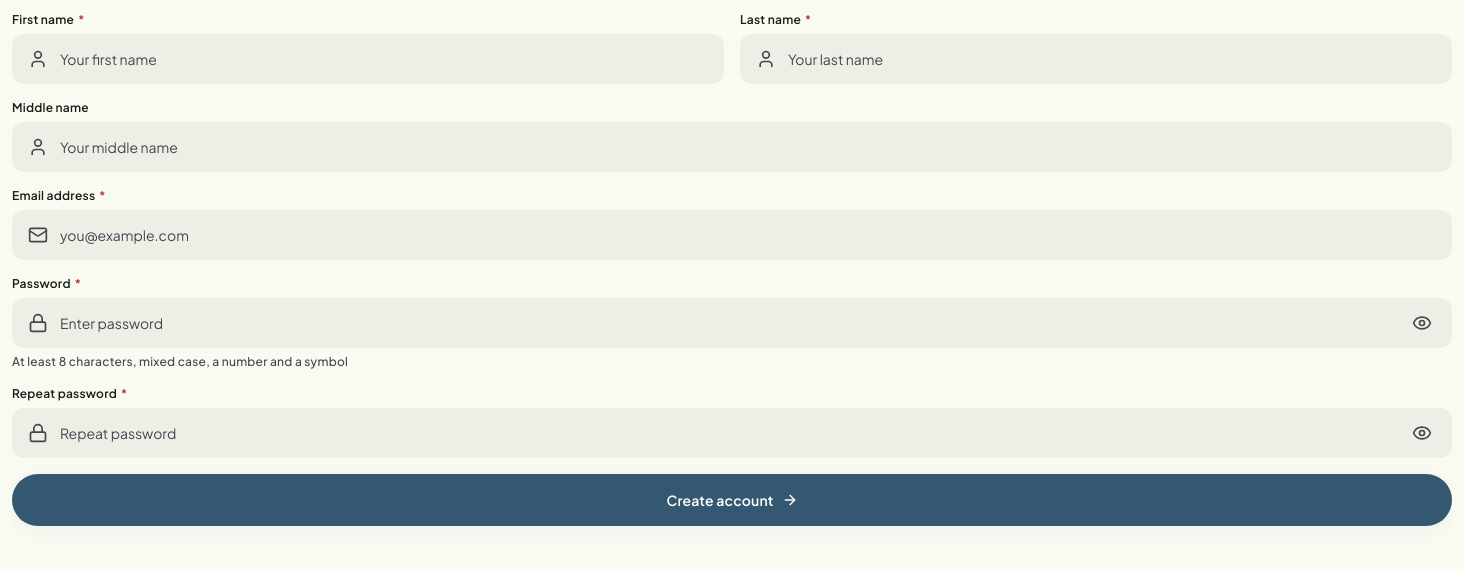
Test: RegisterForm › confirms when the repeated password matches
Type "Chores12!" into the password field labelled "Password".
click(732, 323); type("Chores12!")  # box [12,298,1452,348]
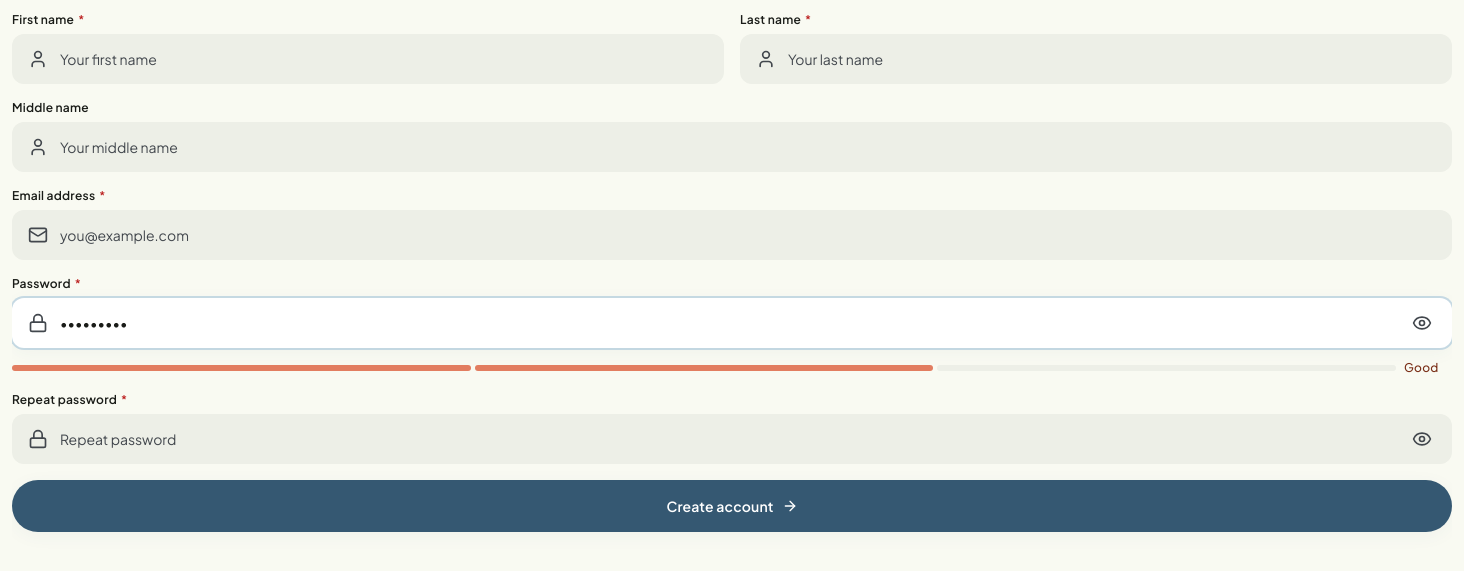
Type "Chores12" into the password field labelled "Repeat password".
click(732, 439); type("Chores12")  # box [12,414,1452,464]
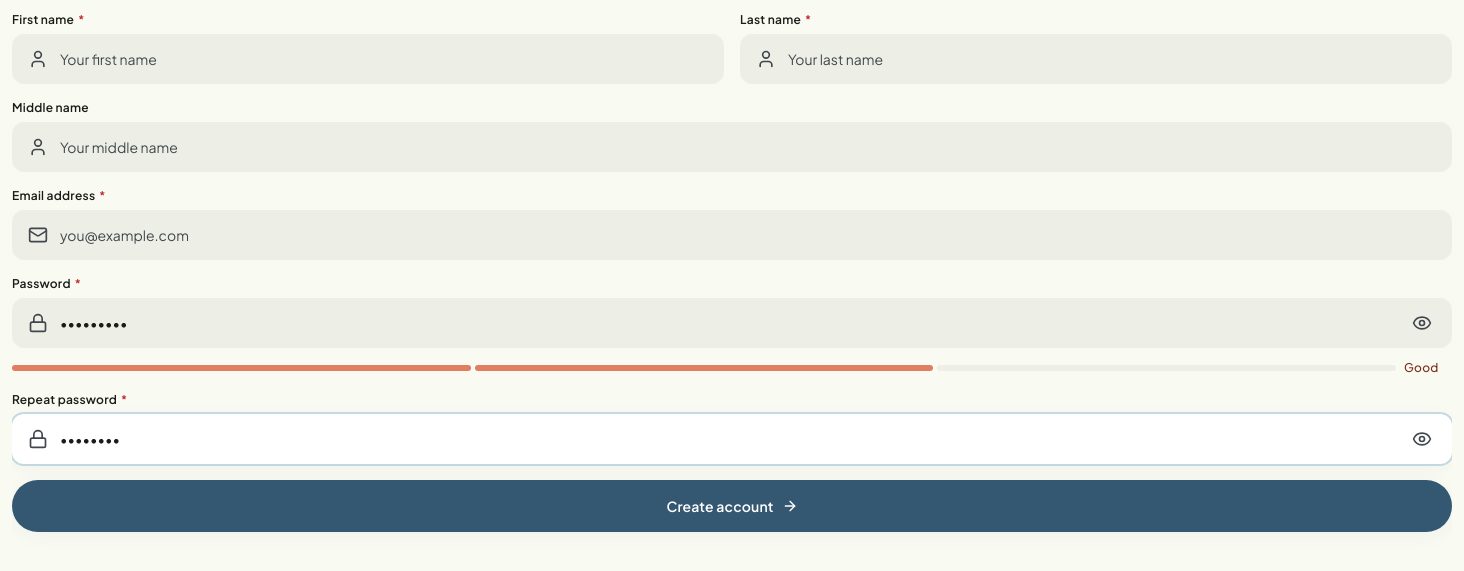
Expected: the text "Passwords match" is not shown
Type "!" into the password field labelled "Repeat password".
click(732, 439); type("!")  # box [12,414,1452,464]
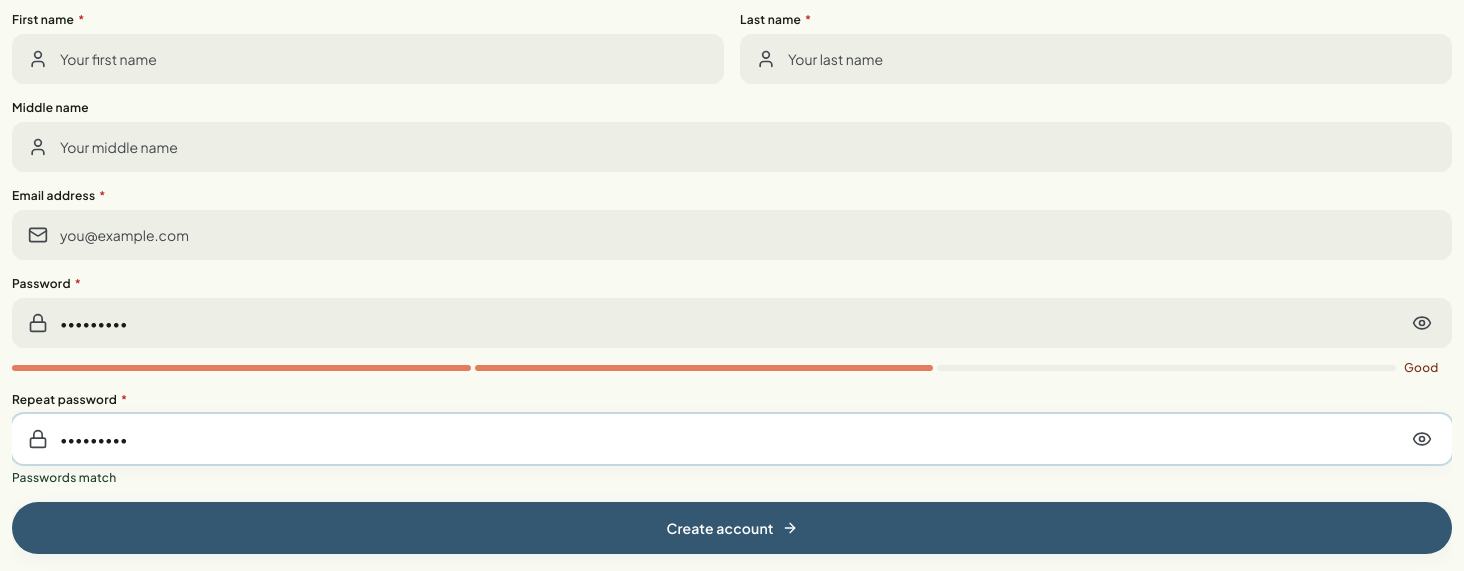
Expected: the text "Passwords match" is shown, [12,470,116,485]
